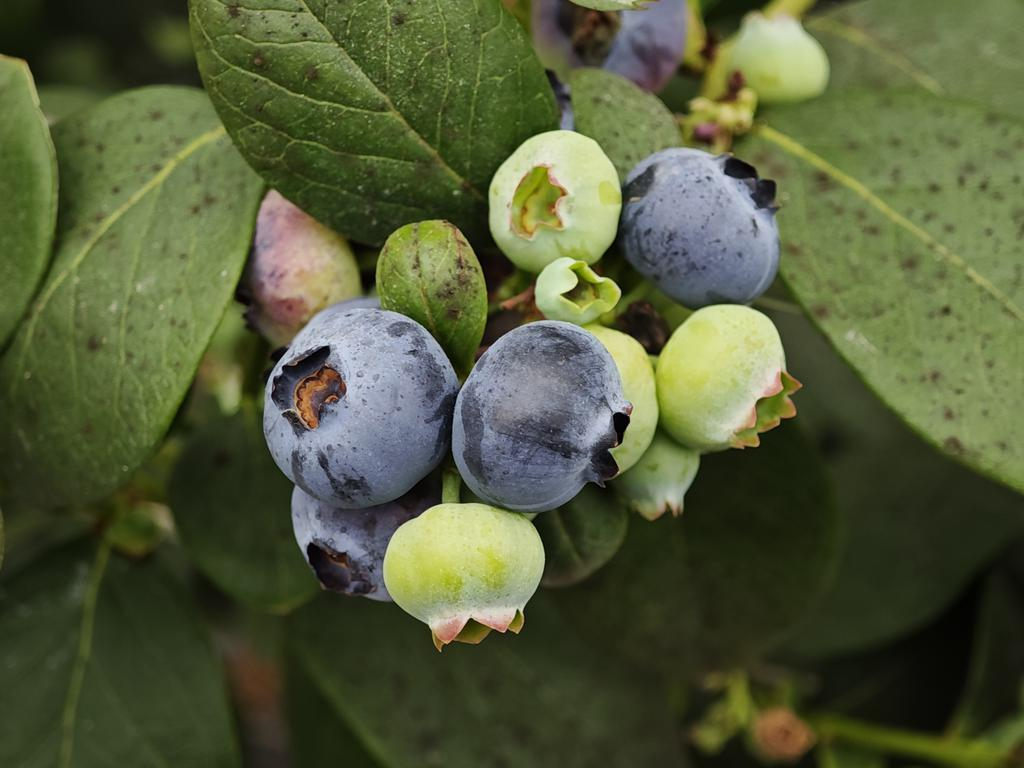RipeBlueBerry: (263, 307, 450, 503), (454, 321, 632, 497)
UnripeBlueBerry: (388, 500, 542, 644), (659, 302, 803, 449), (490, 124, 622, 266)
